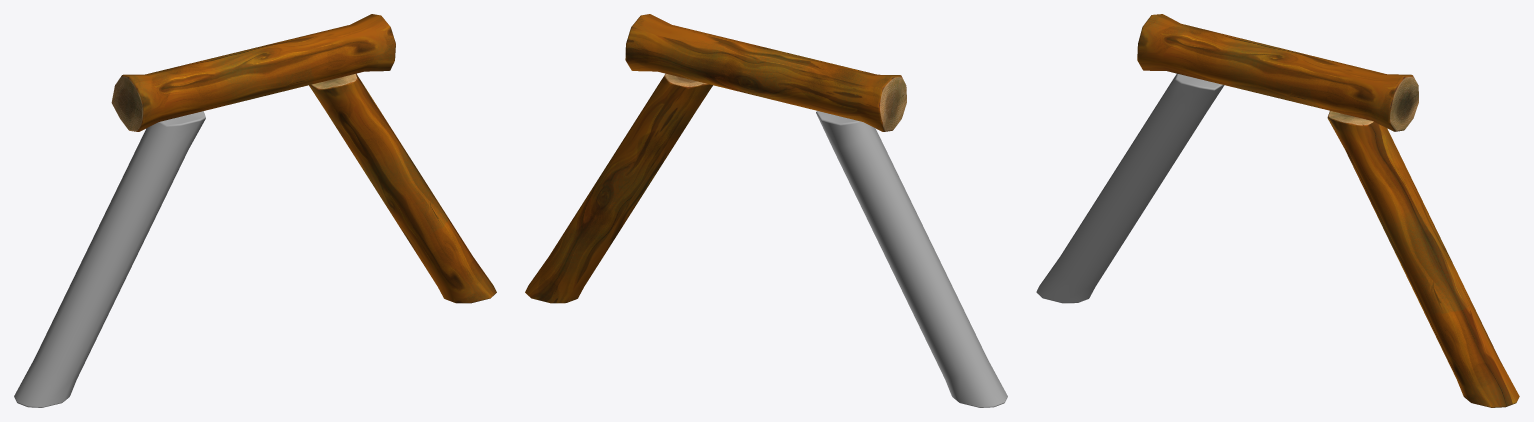
Rendered from TreeSupport.fbx.
3 renders of one model, left to right at view 1: azimuth 30°, elevation 25°; view 2: azimuth 150°, elevation 25°; view 3: azimuth 330°, elevation 25°, orthographic.
Visible parts, largest first — view 1: RightStump, TopStump, LeftStump; view 2: RightStump, TopStump, LeftStump; view 3: LeftStump, TopStump, RightStump.
Boxes of the visible parts, x1,y1,x2,y2 form: RightStump: (14,111,205,407); TopStump: (111,14,395,131); LeftStump: (309,73,496,303); RightStump: (816,111,1007,407); TopStump: (625,14,906,131); LeftStump: (525,73,712,303); LeftStump: (1327,111,1519,407); TopStump: (1137,14,1418,131); RightStump: (1036,73,1224,303).
Size of the model in its own units: 23.26 by 13.97 by 2.41.
